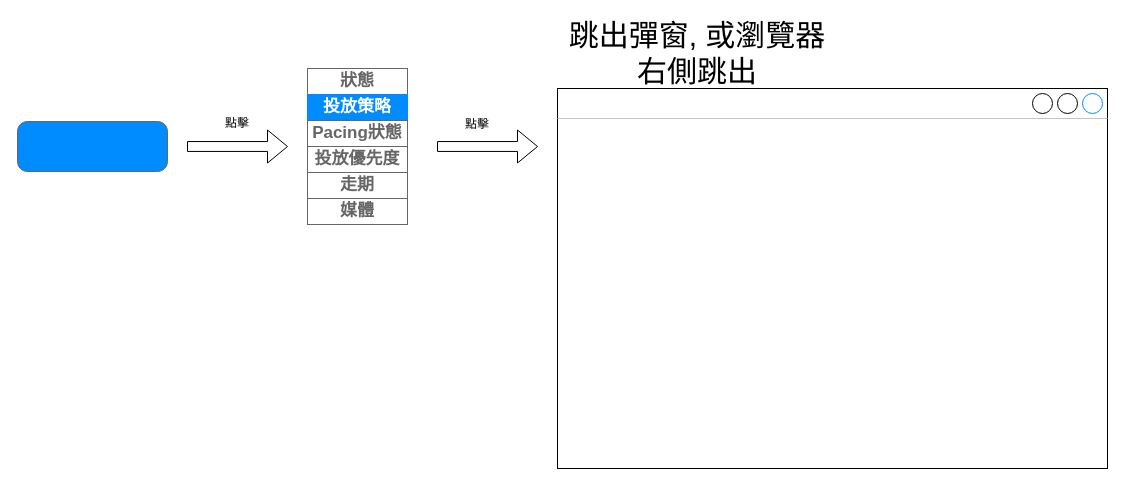
The diagram is 1125 pixels wide and 486 high, and some of its shapes have lost their labels. Each missing label, with the box of its shape:
Window Title: (556, 88, 1108, 468)
批次修改: (16, 120, 168, 172)
